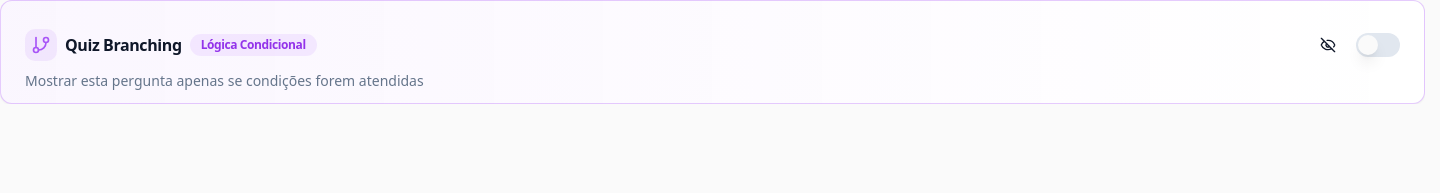
Test: ConditionBuilder › Renderização para perguntas subsequentes › deve habilitar builder ao ativar switch
This screenshot has width=1440, height=193.
Step 1. Click the switch → (1378, 45), box 1356,33 -> 1400,57
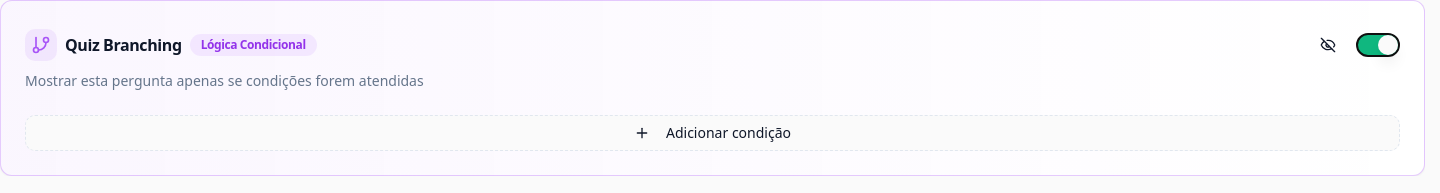
Now the button "Adicionar condição" is shown, box 25,115 -> 1400,151
